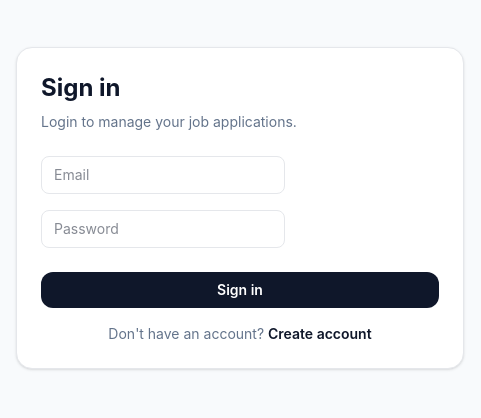
Test: LoginPage › shows error message when login fails
Type "wrong@example.com" into the field with placeholder "Email" at x=163, y=175, box [41,156,285,194]
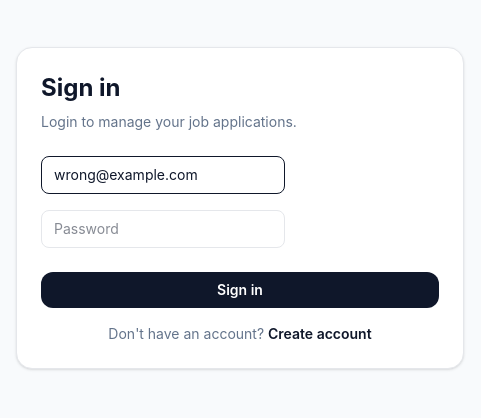
Type "wrongpass" into the password field with placeholder "Password" at x=163, y=229, box [41,210,285,248]
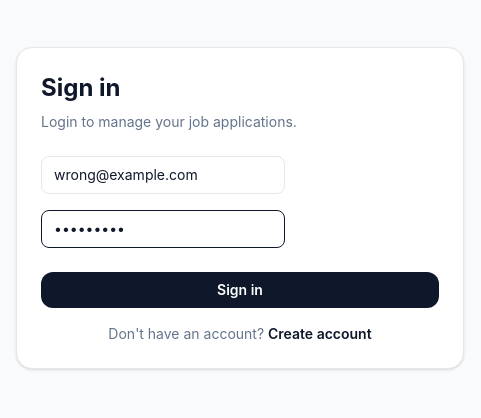
Click the button "Sign in" at x=240, y=290, box [41,272,439,308]
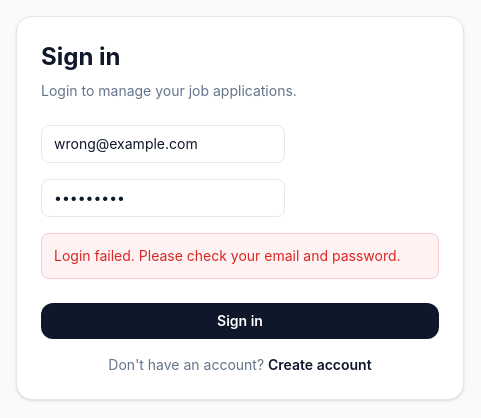
Check: the text "Login failed. Please check your email and password." is shown, box [41,233,439,279]
